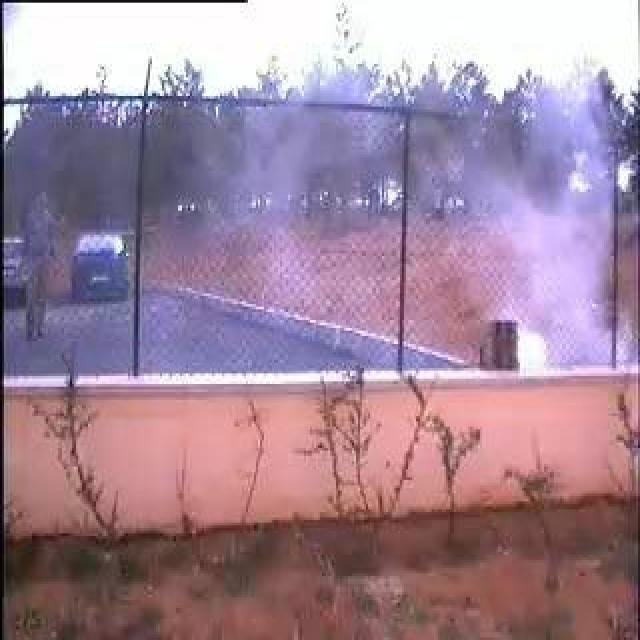Smoke: (311, 74, 621, 370)
